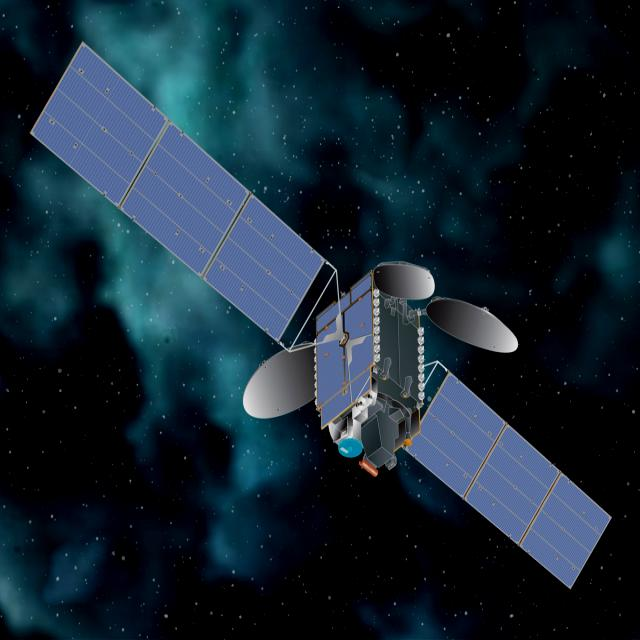satellite: (29, 34, 616, 596)
